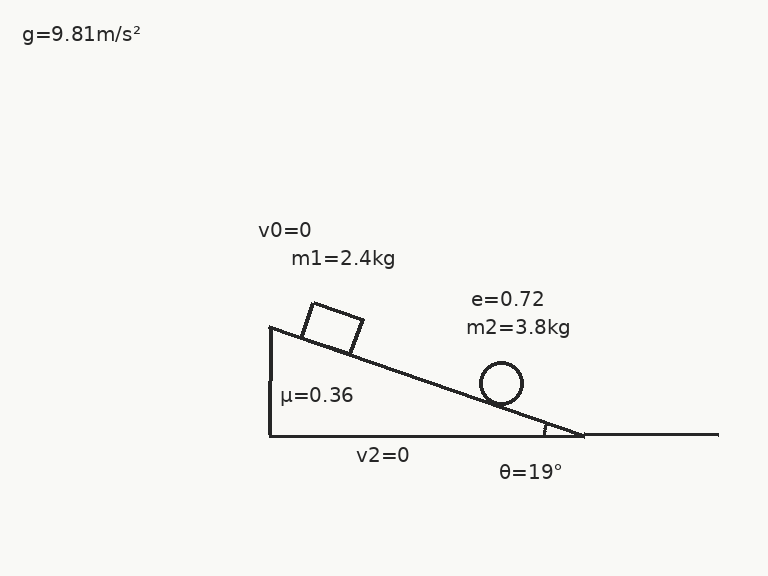ball: (477, 359, 525, 407)
block: (299, 300, 364, 356)
ramp: (267, 325, 586, 437)
